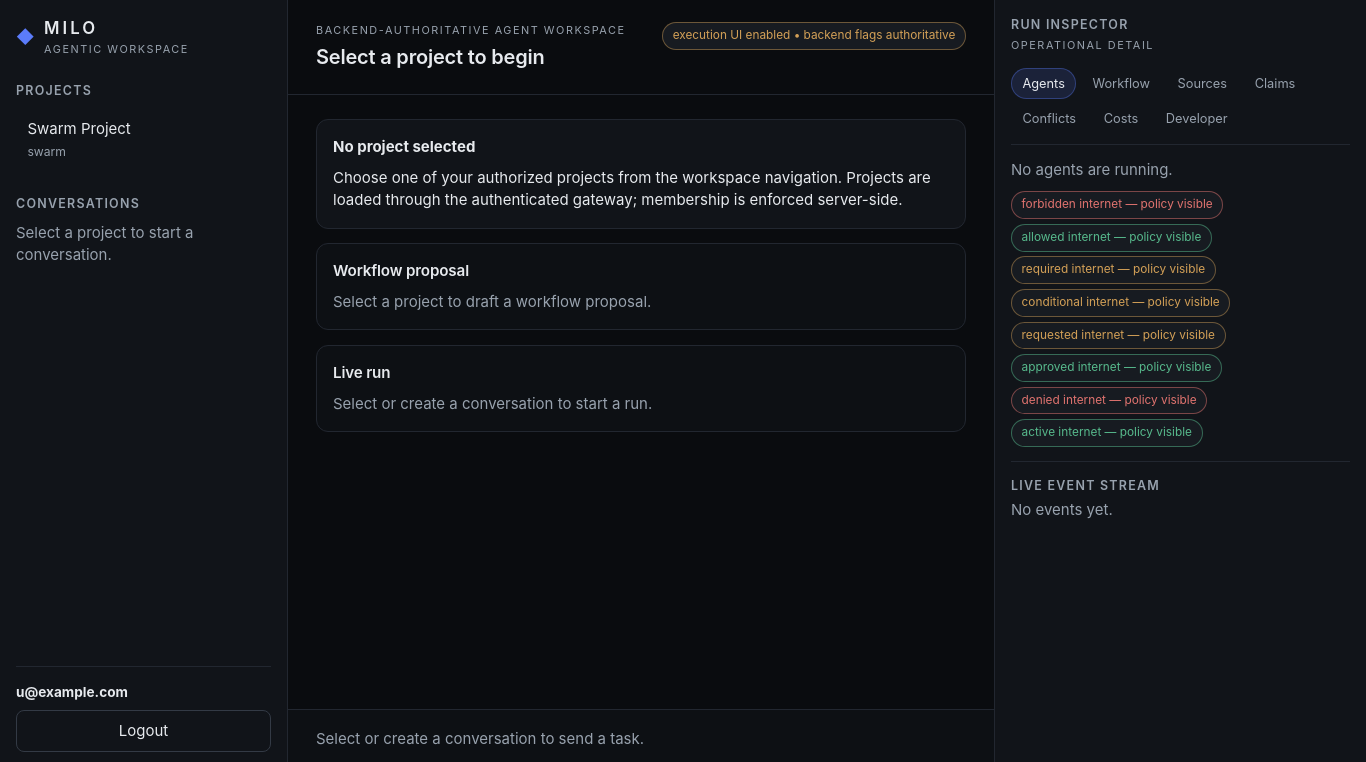
Test case: 13/14. Swarm V1 keeps the existing run panel › a Swarm V2 project renders exactly one run card and drops the V1 panel
Click the text "Swarm Project".
click(79, 128)  # box [27,119,131,138]
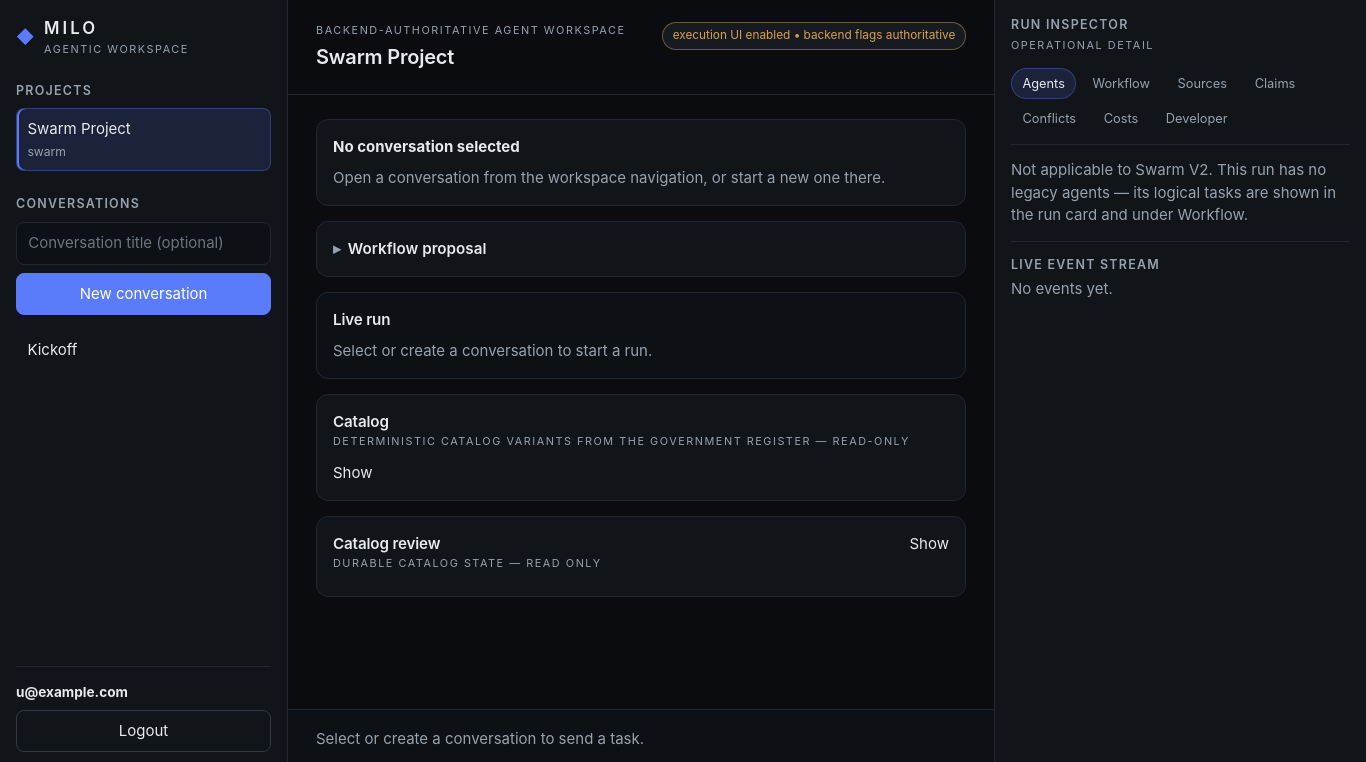
Click the button "Kickoff".
click(144, 350)  # box [16,329,271,371]
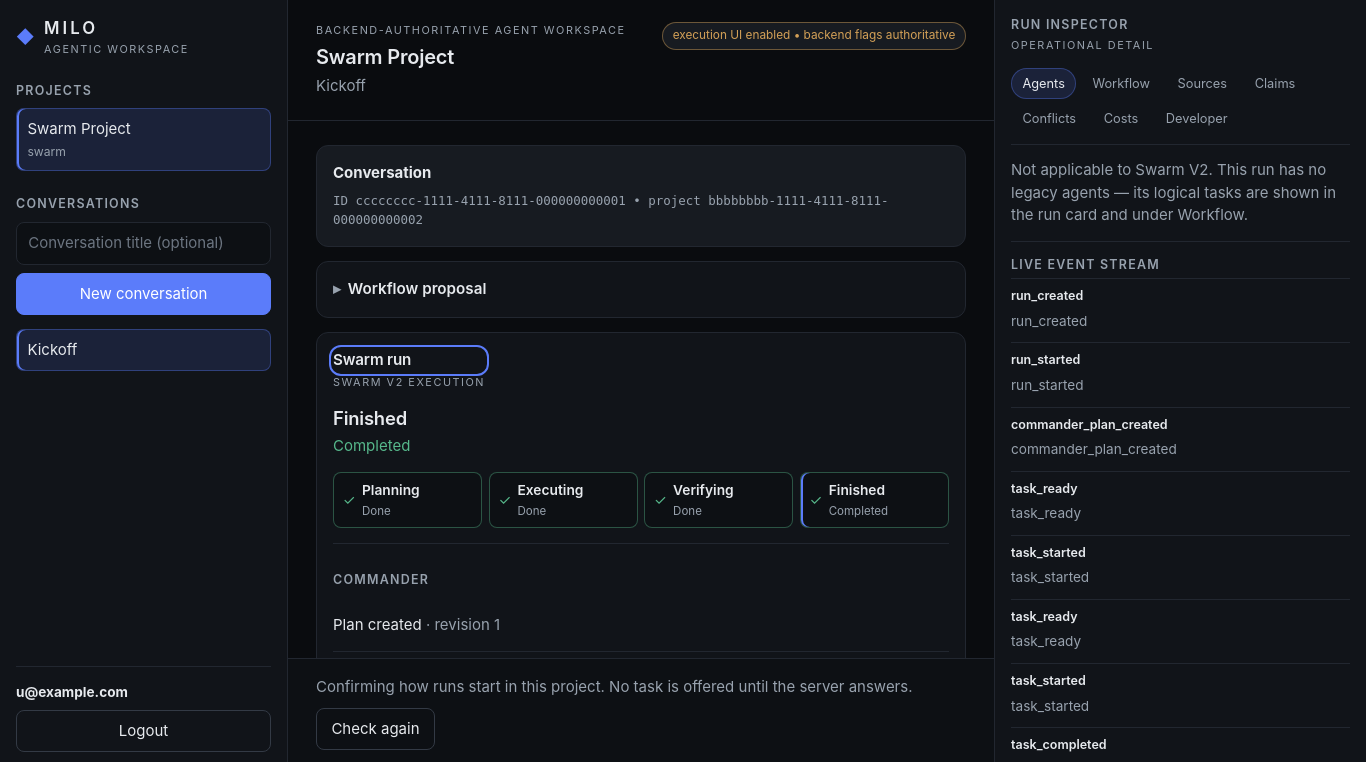
Result: the heading "Swarm run" is shown at [333,350,411,370]
Result: the heading "Live run" is gone
